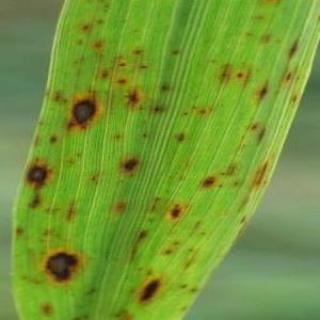bercak-Cokelat: (77, 22, 150, 88), (280, 30, 304, 117), (42, 241, 84, 287), (68, 99, 106, 134), (138, 273, 168, 308), (27, 163, 54, 197), (123, 151, 140, 190), (166, 204, 185, 220), (127, 87, 142, 107), (255, 82, 267, 100), (203, 176, 217, 187), (238, 73, 243, 77)
